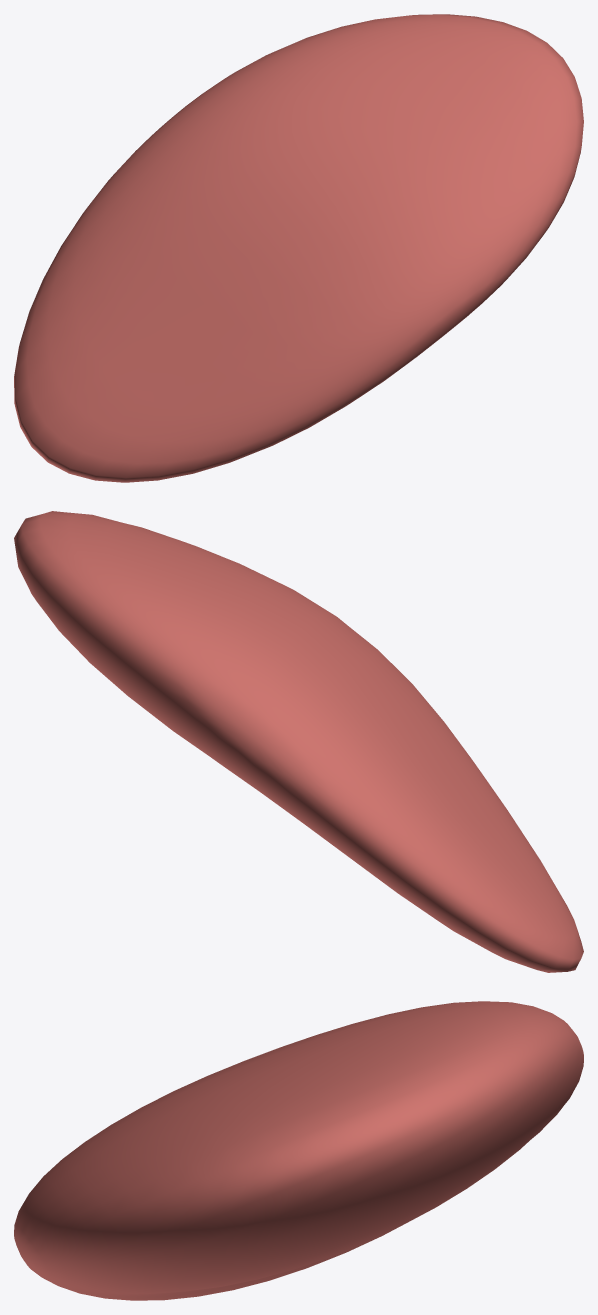
The picture shows the model from 3 angles, top to bottom: view 1: azimuth 30°, elevation 25°; view 2: azimuth 150°, elevation 25°; view 3: azimuth 270°, elevation 25°; orthographic projection. The views are drawn at different scales.
Parts seen in each view (by area): view 1: 右侧闭孔内肌腱下囊; view 2: 右侧闭孔内肌腱下囊; view 3: 右侧闭孔内肌腱下囊.
Part boxes in pixels (<box>): 右侧闭孔内肌腱下囊: <box>14,14,583,482</box>; 右侧闭孔内肌腱下囊: <box>14,511,583,972</box>; 右侧闭孔内肌腱下囊: <box>14,1001,583,1300</box>.
Bounding box in the file's own units: 0.0187 × 0.011 × 0.0118.
